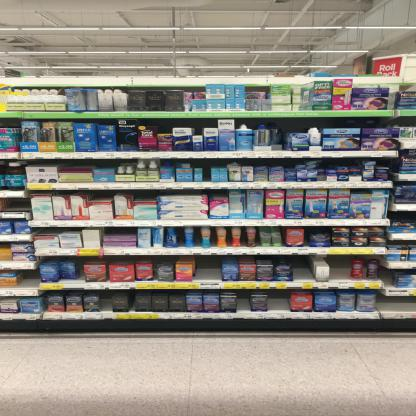Void: (320, 119, 387, 128), (378, 298, 414, 312), (197, 258, 219, 278), (330, 254, 351, 274), (280, 120, 309, 131), (104, 227, 134, 233), (298, 259, 308, 277), (155, 120, 171, 130), (93, 188, 109, 198), (137, 192, 152, 199)
